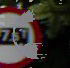Heavy Vehicles: (0, 4, 42, 65)
